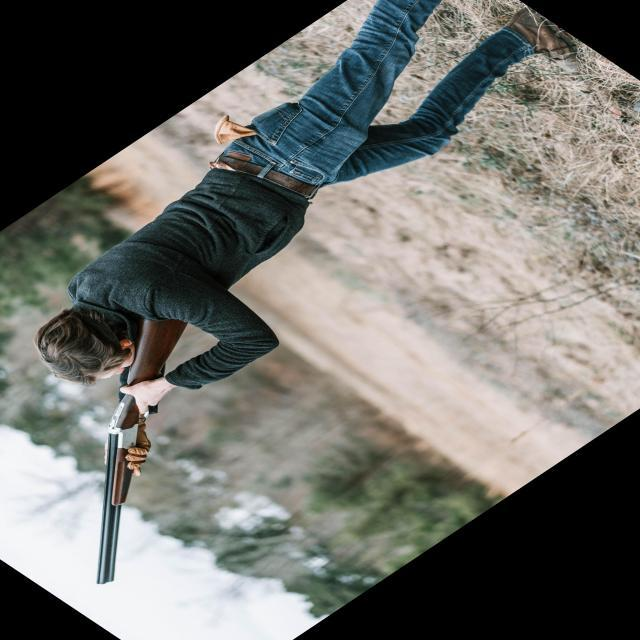weapon: (98, 314, 188, 586)
